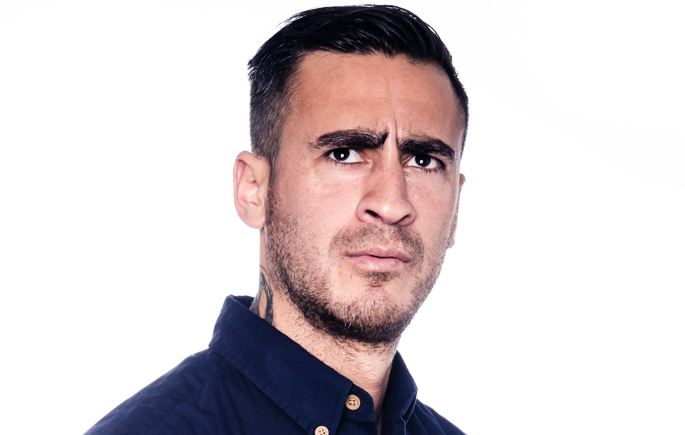confused: (285, 89, 454, 344)
